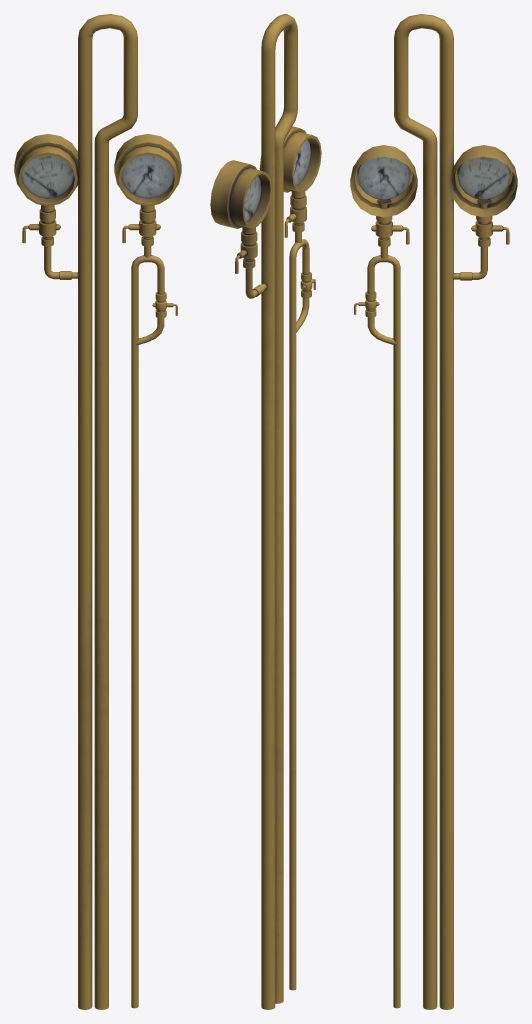
File: SM_Numerical_Pipe.fbx
The picture shows the model from 3 angles, left to right: view 1: azimuth 90°, elevation 25°; view 2: azimuth 150°, elevation 25°; view 3: azimuth 270°, elevation 25°; orthographic projection.
Parts seen in each view (by area): view 1: SM_Numerical_Pipe; view 2: SM_Numerical_Pipe; view 3: SM_Numerical_Pipe.
Part boxes in pixels (left/top/right/bottom): SM_Numerical_Pipe: left=14, top=14, right=181, bottom=1009; SM_Numerical_Pipe: left=210, top=14, right=321, bottom=1009; SM_Numerical_Pipe: left=350, top=14, right=517, bottom=1009.
Size of the model in its own units: 7 by 32.64 by 214.
1 material, 1 textured.
